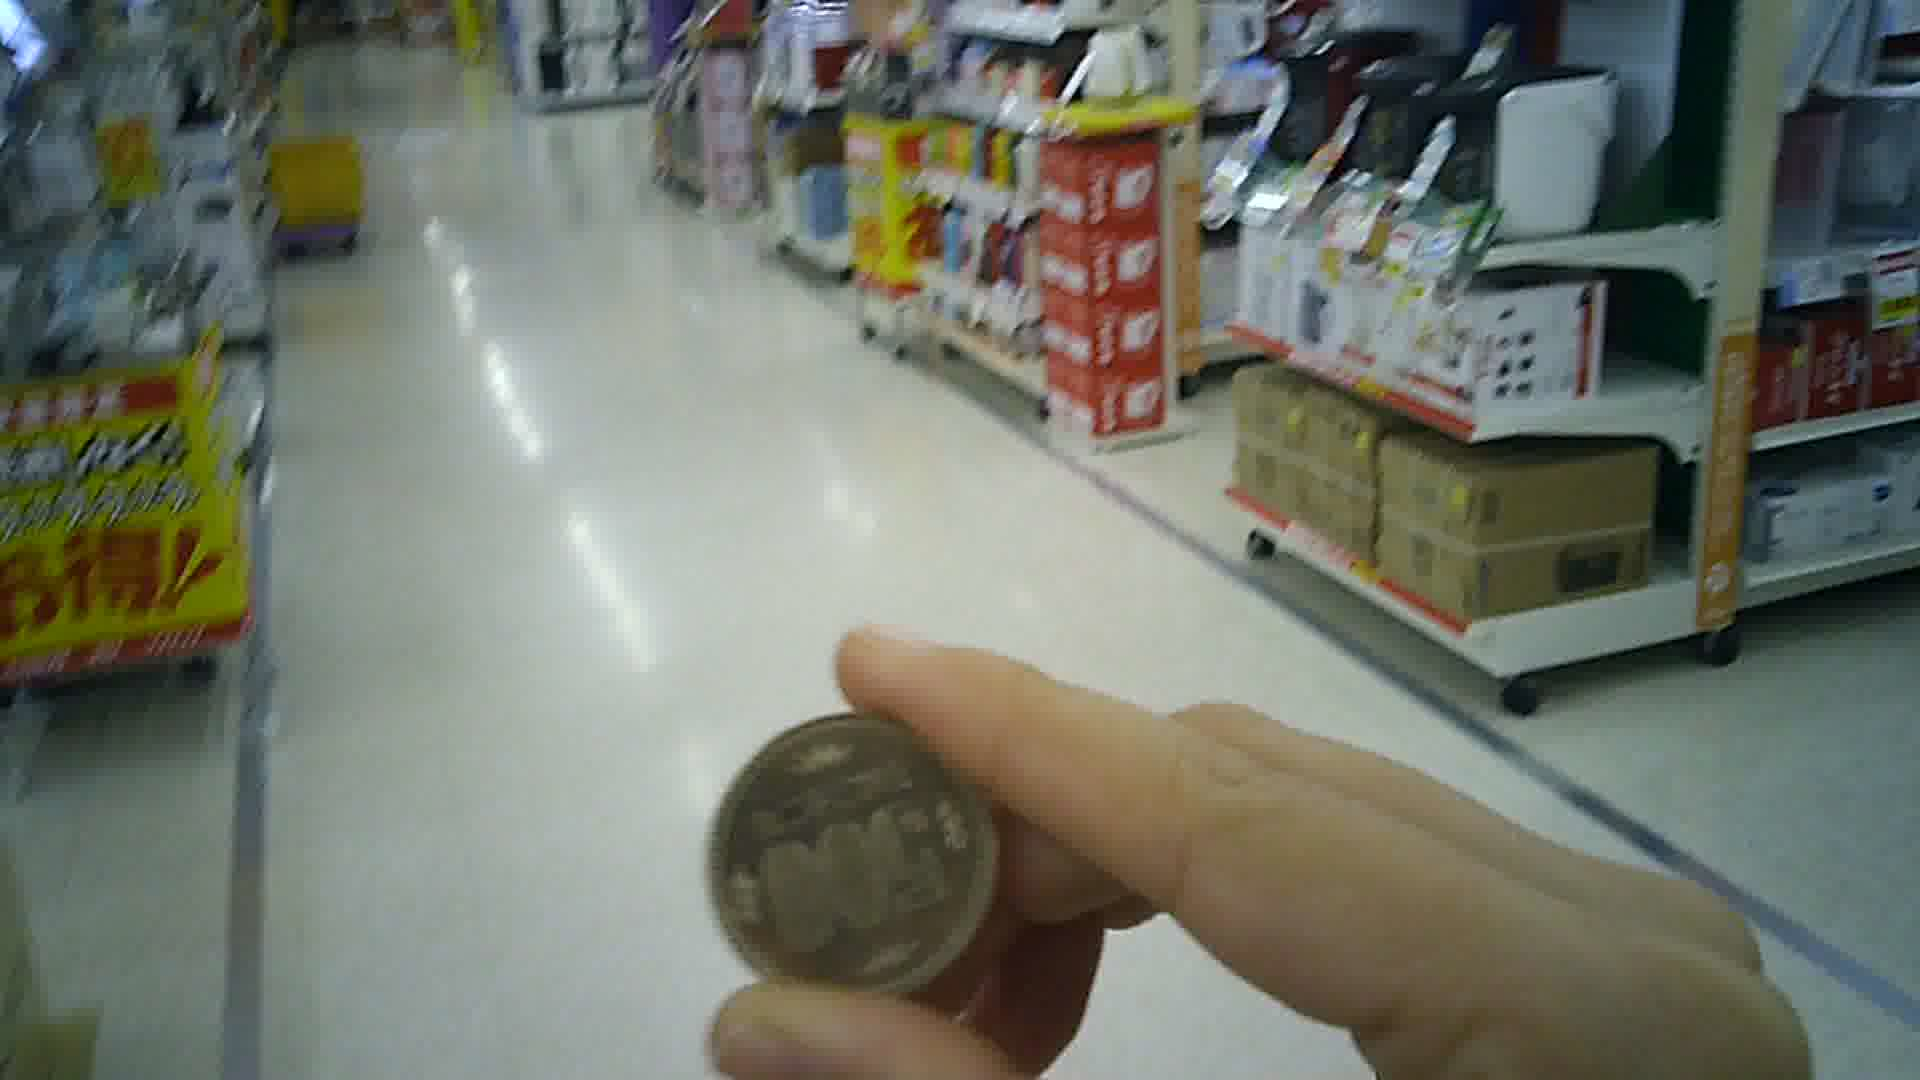500 Yen: (702, 705, 1006, 994)
